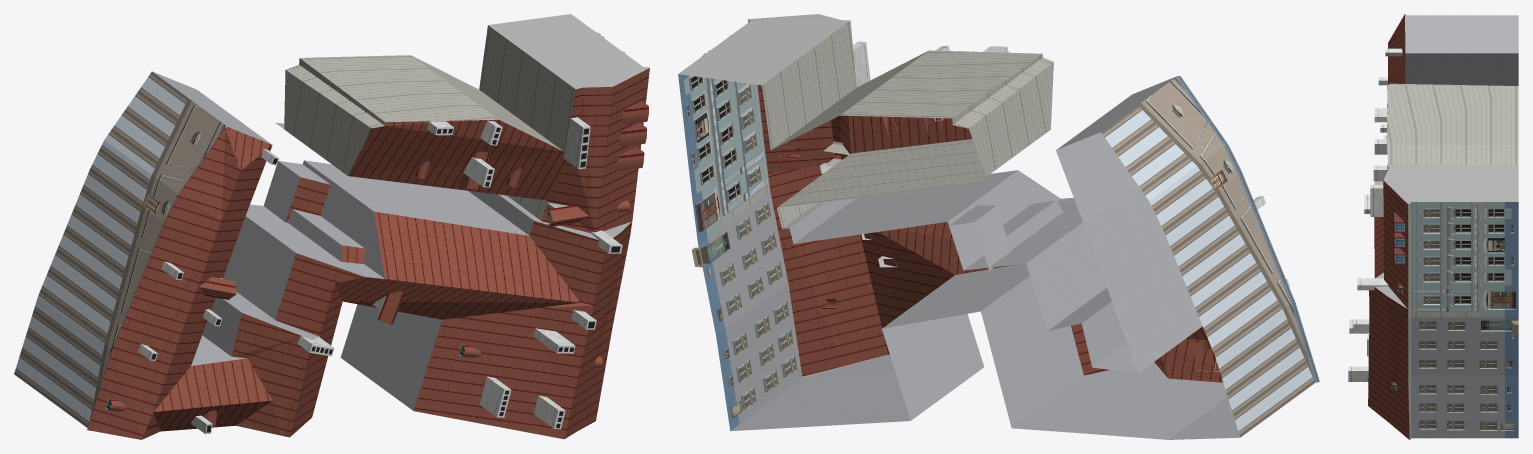
Rendered from Ryytli_4.obj.
3 renders of one model, left to right at view 1: azimuth 30°, elevation 25°; view 2: azimuth 150°, elevation 25°; view 3: azimuth 270°, elevation 25°, orthographic. The views are drawn at different scales.
Visible parts, largest first — view 1: Ryytli_4; view 2: Ryytli_4; view 3: Ryytli_4.
Part boxes in pixels (x1,y1,x2,y2): Ryytli_4: (14, 14, 649, 439); Ryytli_4: (678, 14, 1319, 439); Ryytli_4: (1348, 14, 1518, 439).
Size of the model in its own units: 58.68 by 38.45 by 20.53.
